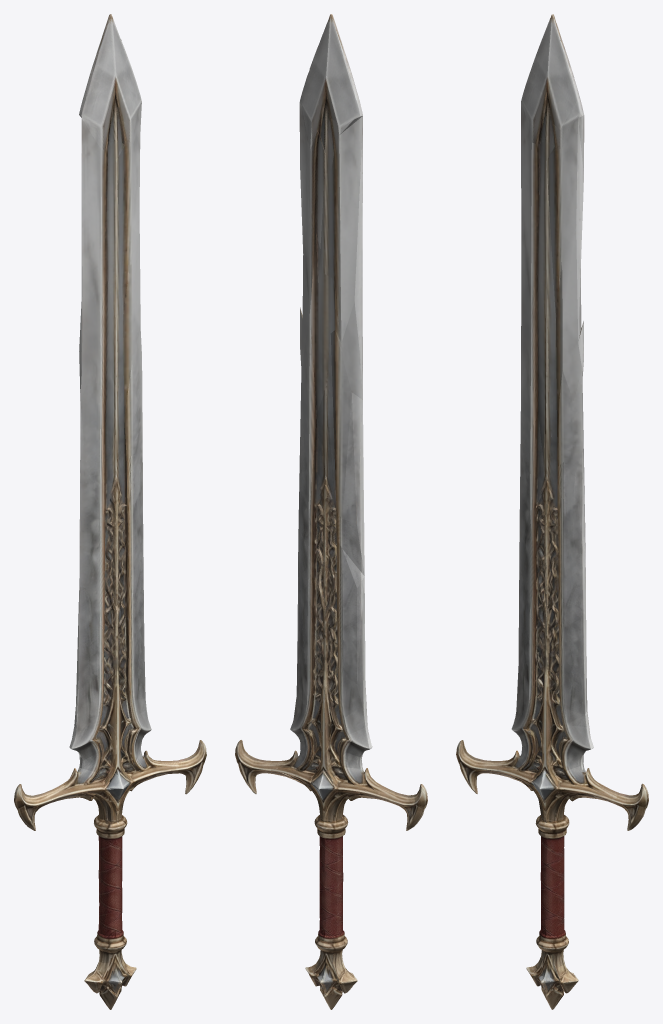
The model's file is GRS008_Remesh_10k.fbx.
3 renders of one model, left to right at view 1: azimuth 30°, elevation 25°; view 2: azimuth 150°, elevation 25°; view 3: azimuth 330°, elevation 25°, orthographic.
Visible parts, largest first — view 1: output_unwrapped; view 2: output_unwrapped; view 3: output_unwrapped.
Boxes of the visible parts, <box> form: output_unwrapped: <box>14,14,206,1009</box>; output_unwrapped: <box>235,14,427,1009</box>; output_unwrapped: <box>456,14,648,1009</box>.
Bounding box in the file's own units: 38.5 × 191 × 8.77.
1 material, 1 textured.
